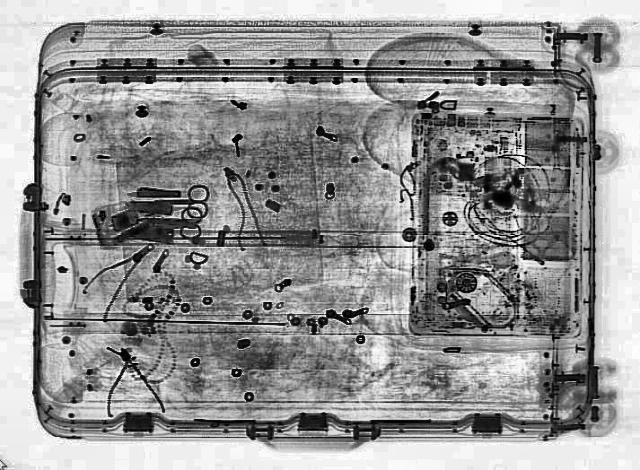Scissors: (138, 183, 210, 217), (136, 206, 204, 240)
